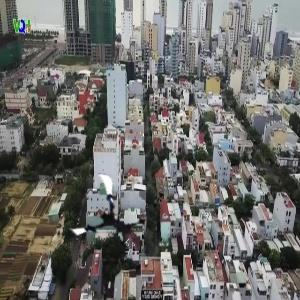drone: (70, 181, 148, 259)
